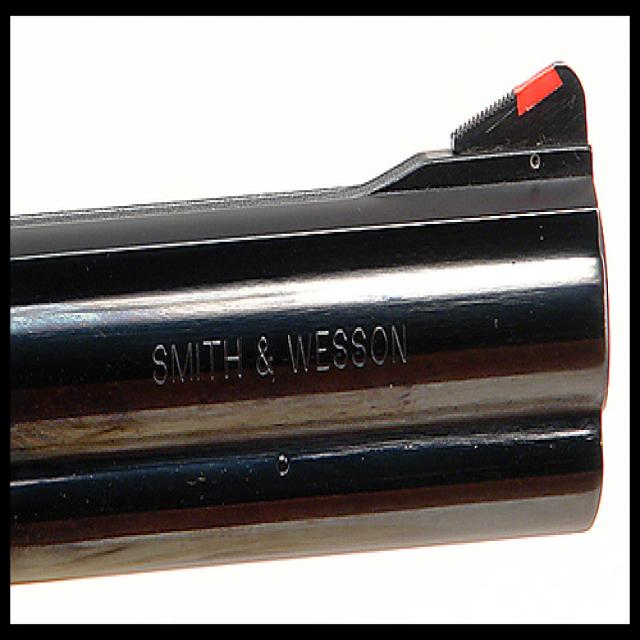gun: (8, 56, 608, 584)
